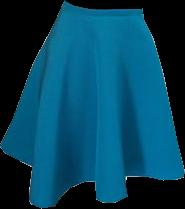Hemline: (0, 144, 184, 208)
Waistline: (64, 0, 142, 11)
